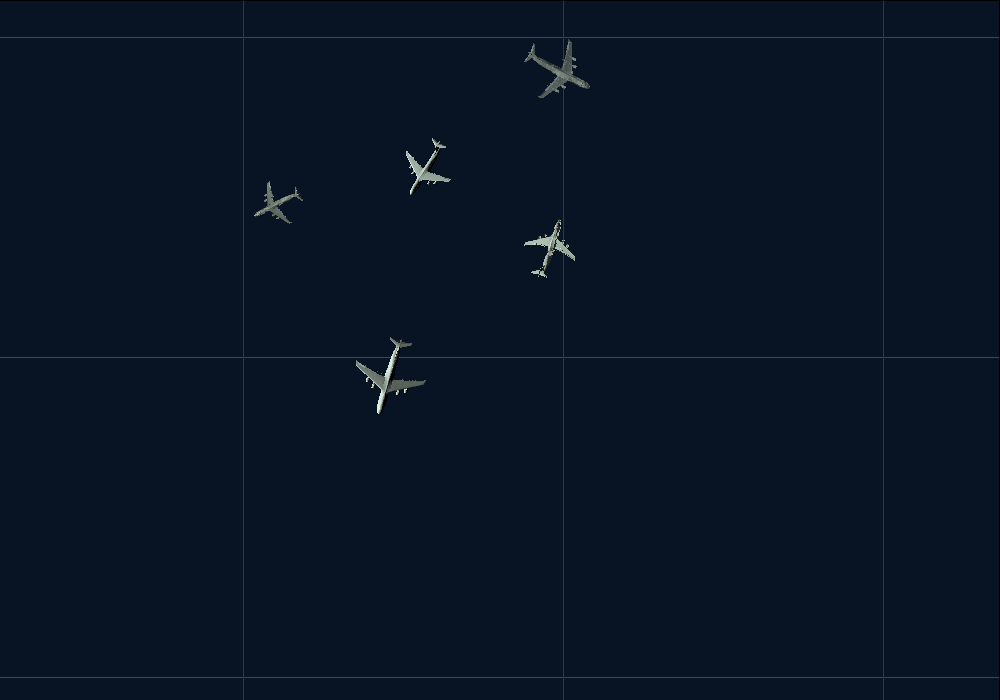plane: (510, 22, 606, 117), (343, 328, 436, 424), (384, 126, 466, 209), (512, 210, 586, 285), (242, 170, 311, 238)
